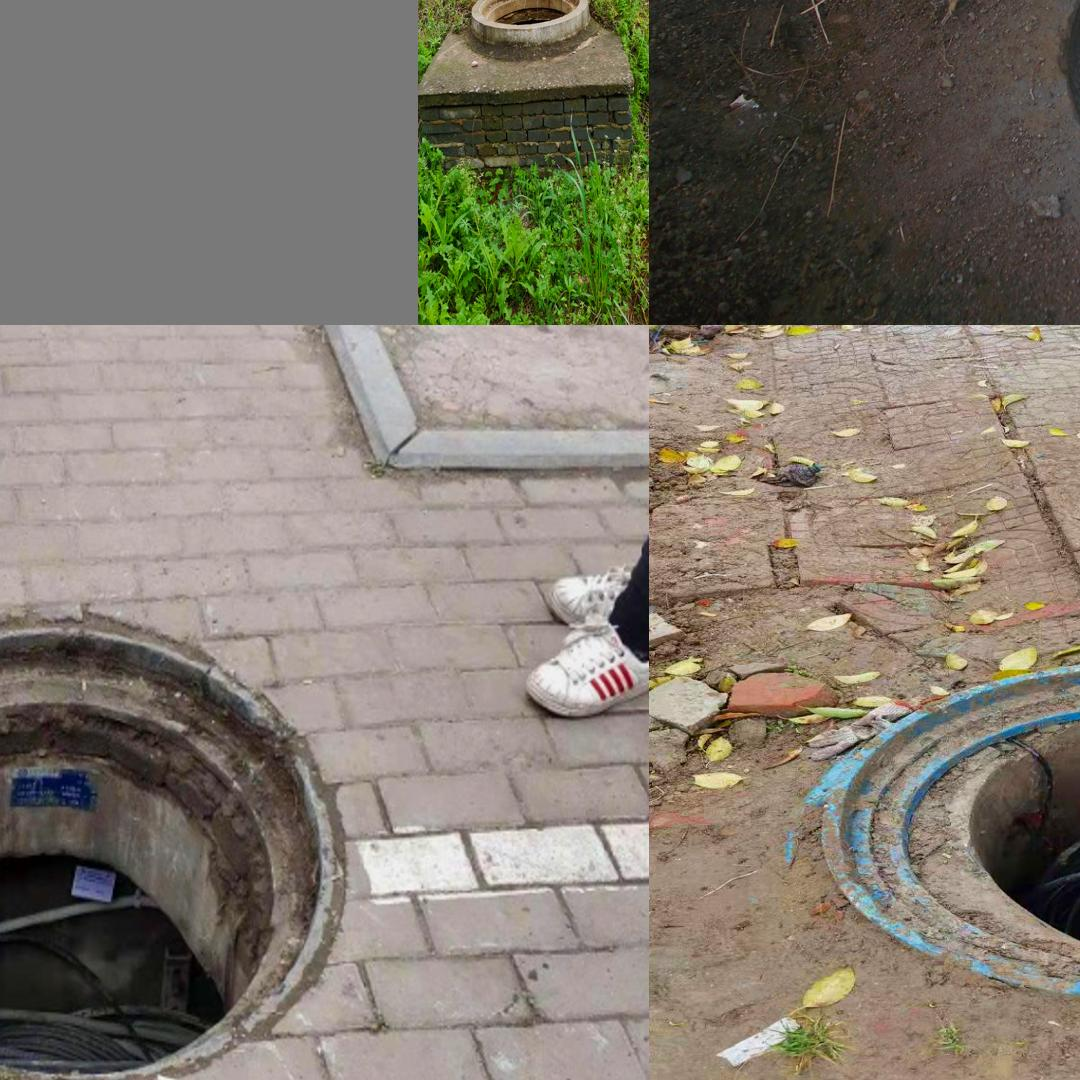lose: (0, 601, 352, 1080), (813, 656, 1080, 992), (1056, 0, 1080, 245), (473, 0, 589, 44)
